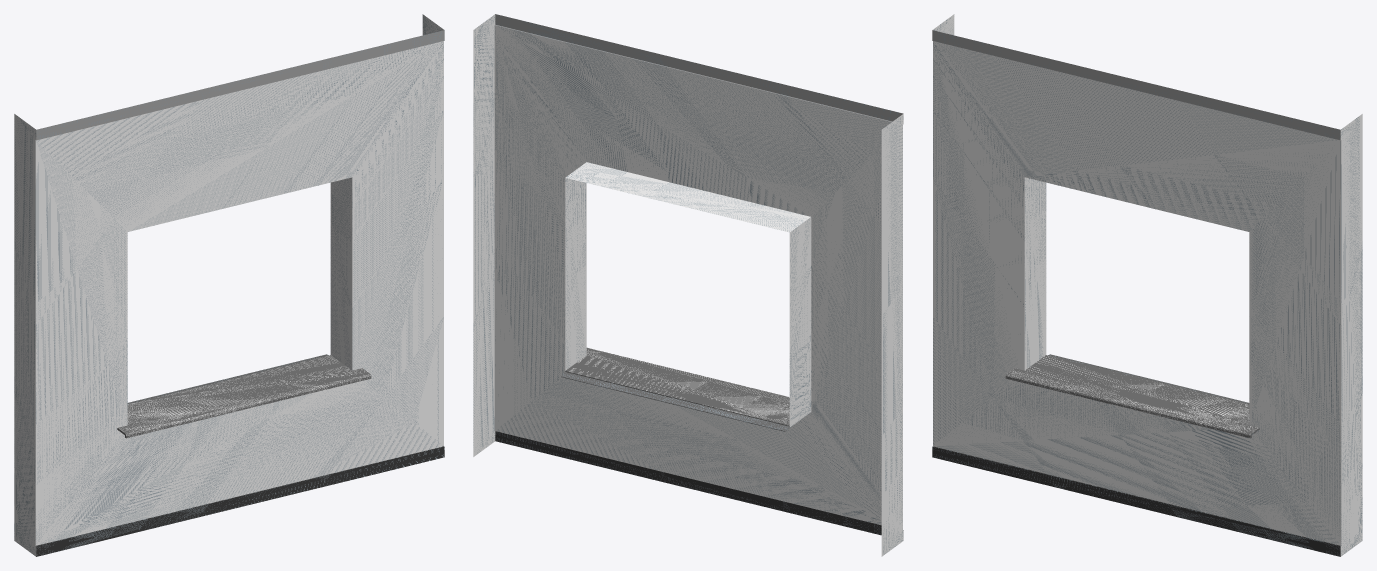
The model's file is WindowBlock_os_plinth_[400x400]_220x181x[100].dae.
3 views of the same model, side by side, from view 1: azimuth 30°, elevation 25°; view 2: azimuth 150°, elevation 25°; view 3: azimuth 330°, elevation 25° (orthographic).
Parts seen in each view (by area): view 1: group_2 (×4), group_1; view 2: group_2 (×4), group_1 (×2); view 3: group_2 (×4), group_1.
Part boxes in pixels (box(x1,y1,x2,y2)): group_2 (×4): box(14, 14, 444, 556); group_1: box(117, 355, 371, 438); group_2 (×4): box(473, 14, 903, 556); group_1 (×2): box(561, 347, 789, 431); group_2 (×4): box(932, 14, 1362, 556); group_1: box(1005, 355, 1258, 438).
Size of the model in its own units: 157 by 23.03 by 157.
